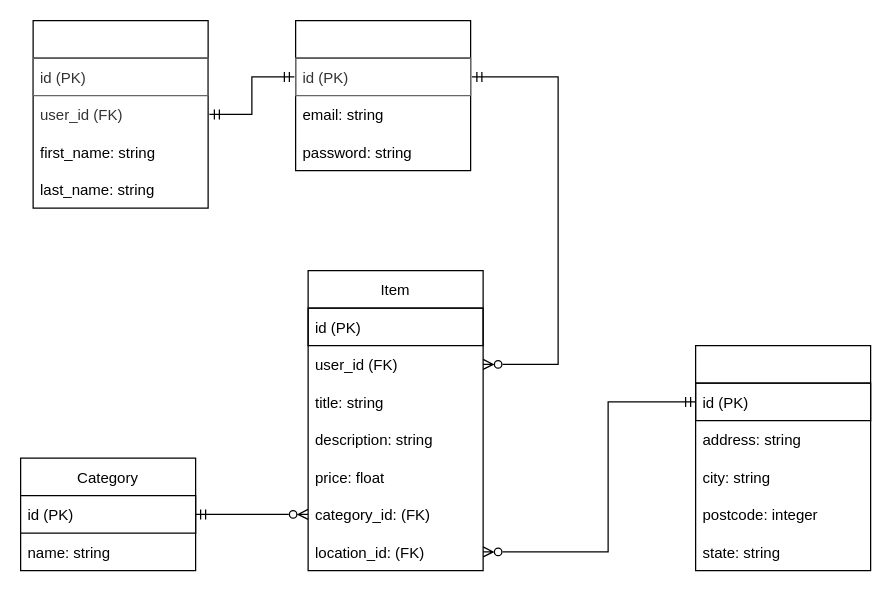
Some shapes in this 891 by 591 pixel diagram are drawn without their labels. The box of each missing label's shape, as (x1, y1, x2, y2) in pixels:
Location: (694, 344, 871, 571)
Profile: (32, 19, 208, 208)
User: (294, 19, 471, 171)
